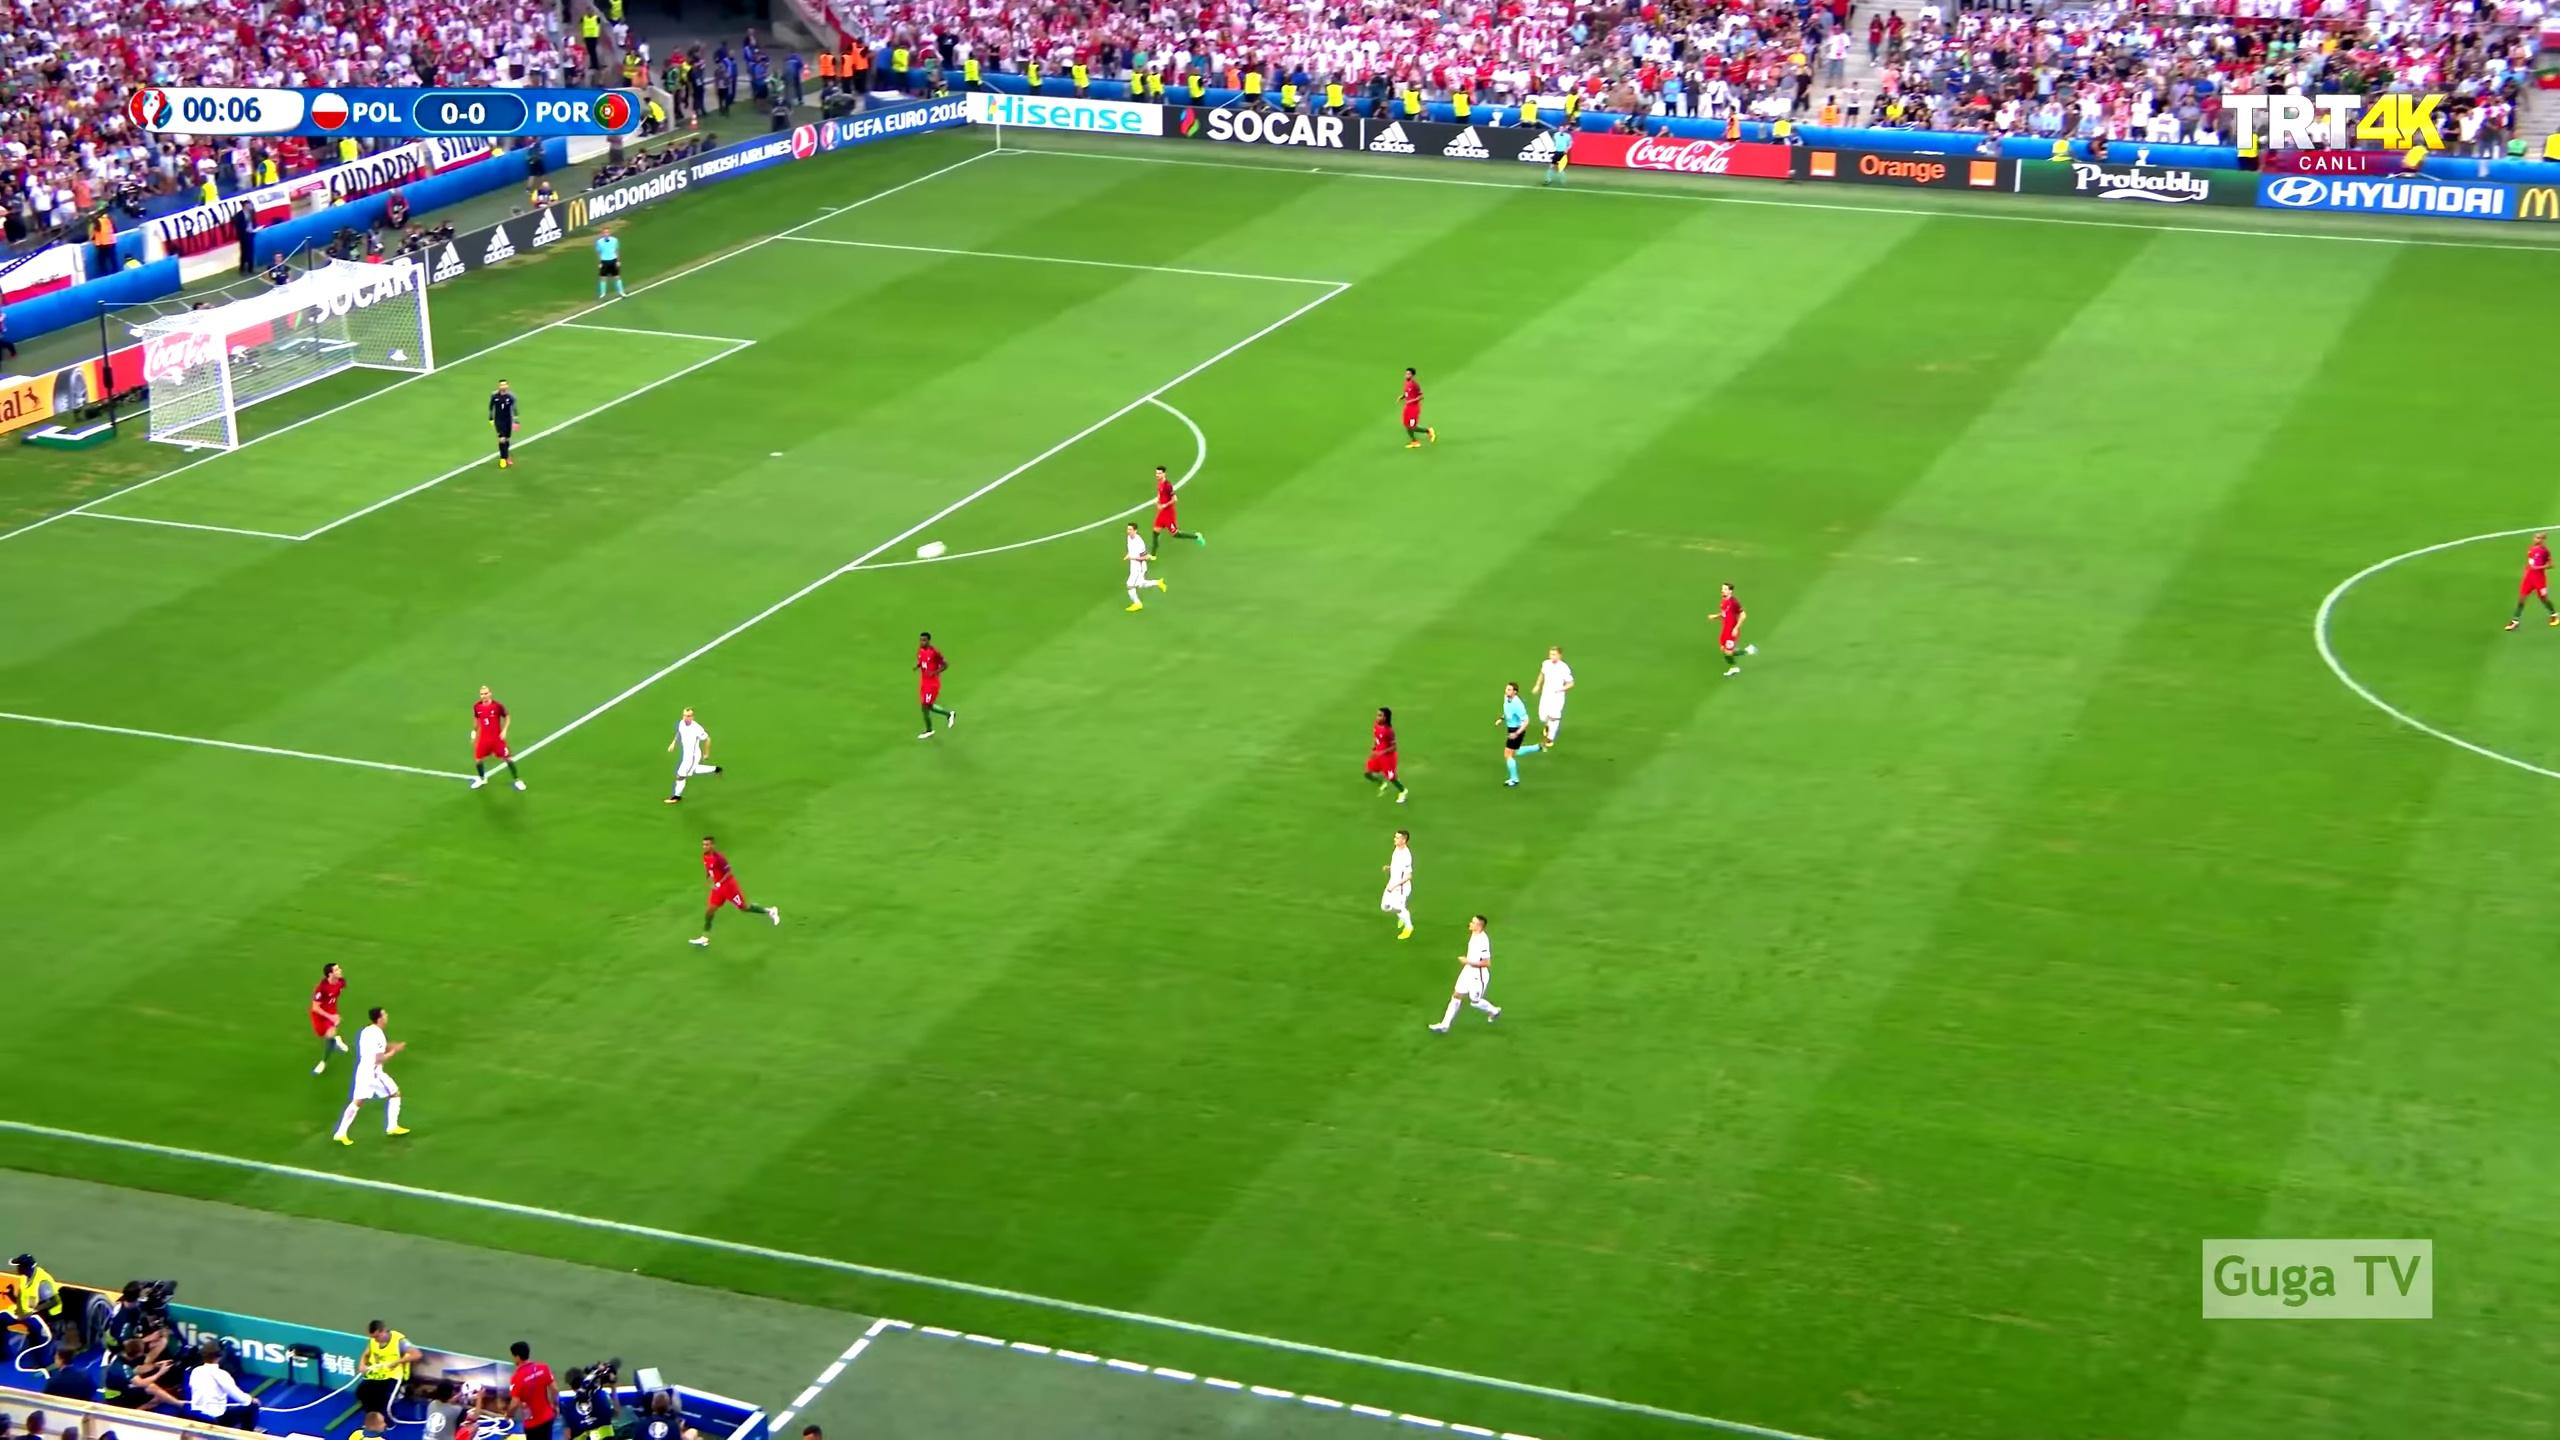ball: (912, 537, 950, 564)
goalkeeper: (484, 374, 526, 473)
player: (330, 1000, 416, 1151), (686, 831, 783, 951), (1426, 909, 1508, 1041), (463, 681, 533, 799), (661, 700, 729, 811), (2500, 524, 2560, 635), (907, 627, 961, 745), (304, 956, 353, 1079), (1706, 579, 1760, 686), (1528, 640, 1577, 753), (1361, 701, 1410, 809), (1119, 517, 1169, 618), (1376, 824, 1418, 943), (1393, 363, 1440, 460)
referee: (1490, 677, 1548, 792), (593, 223, 631, 306), (1540, 121, 1574, 191)
